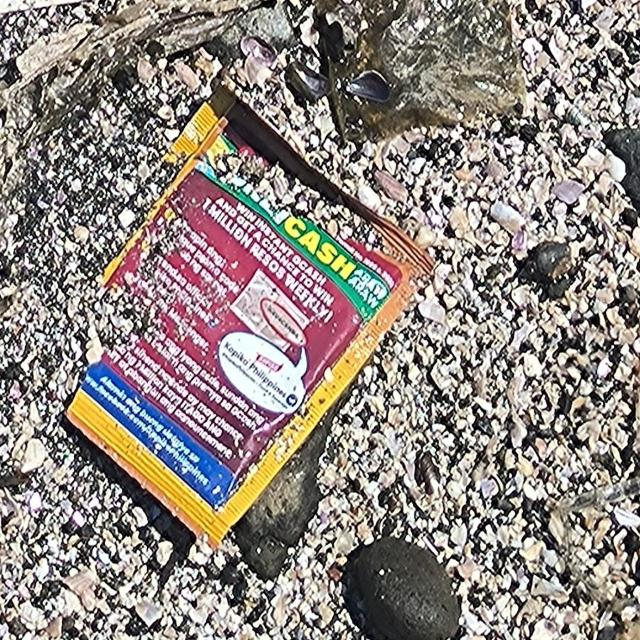plastic_waste: (64, 78, 437, 556)
